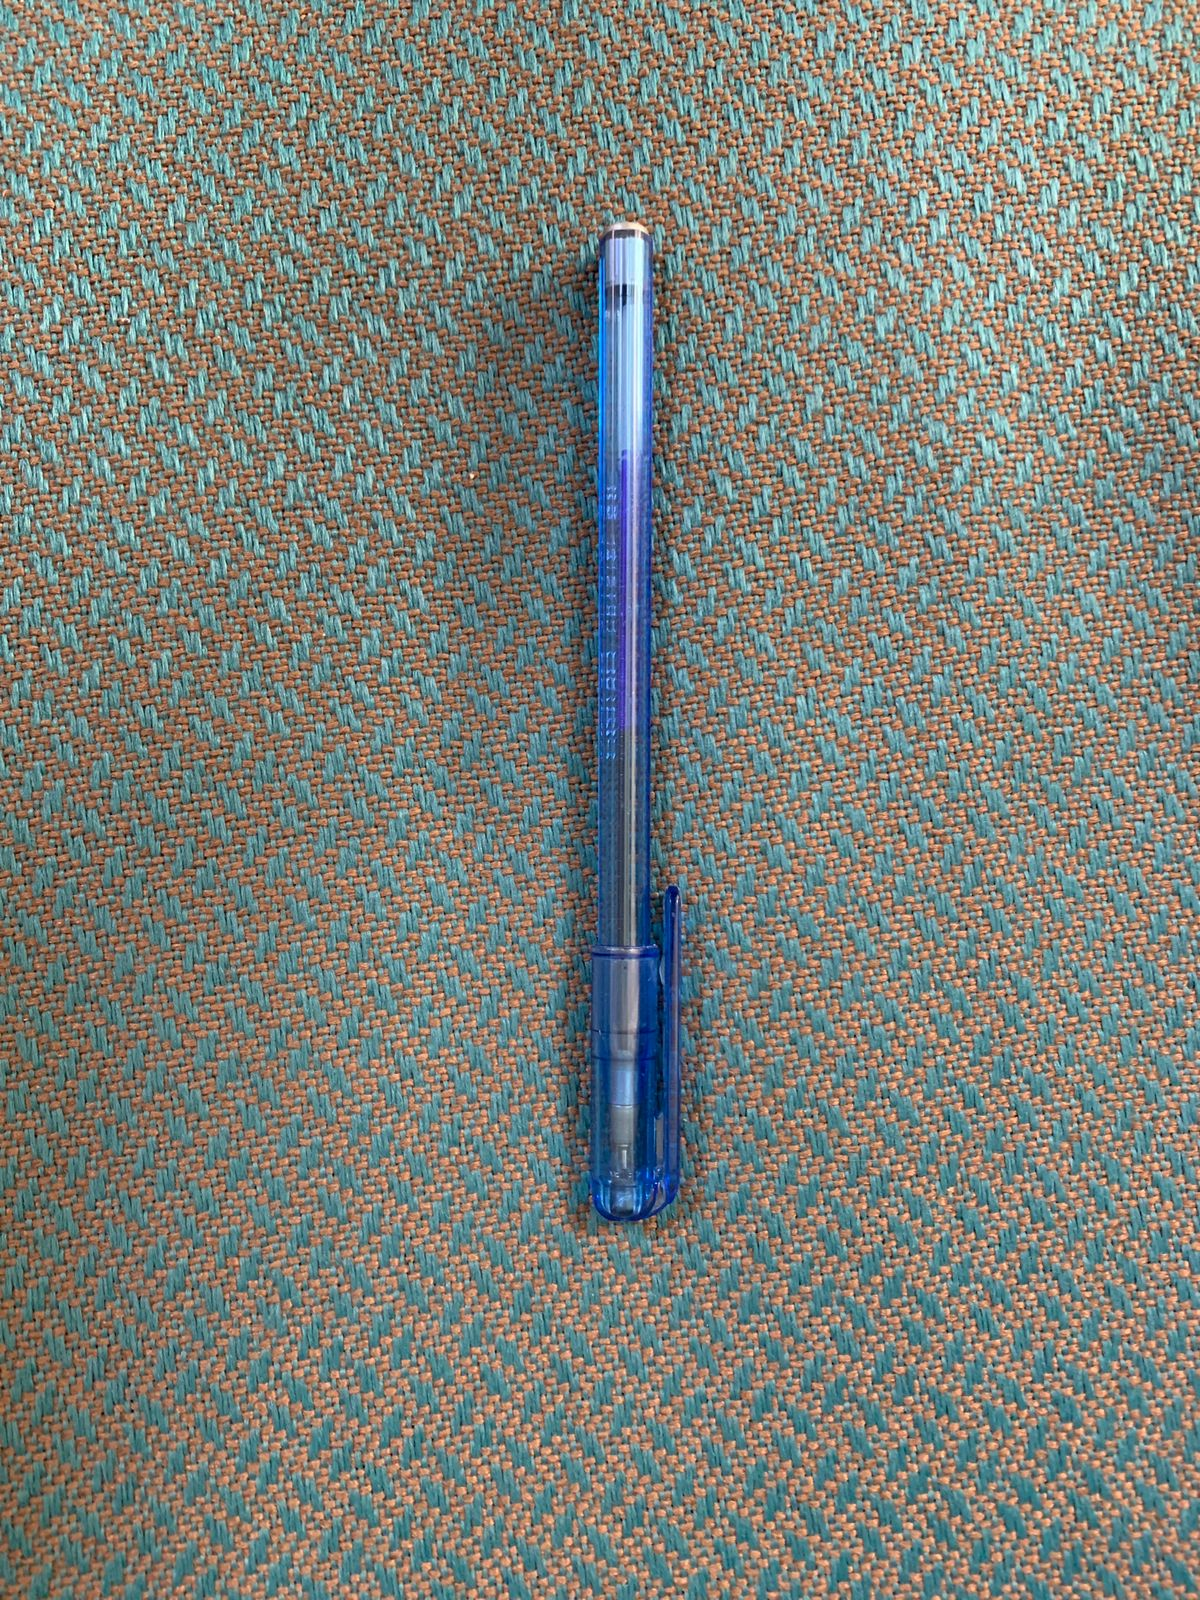pen: (476, 155, 765, 1288)
